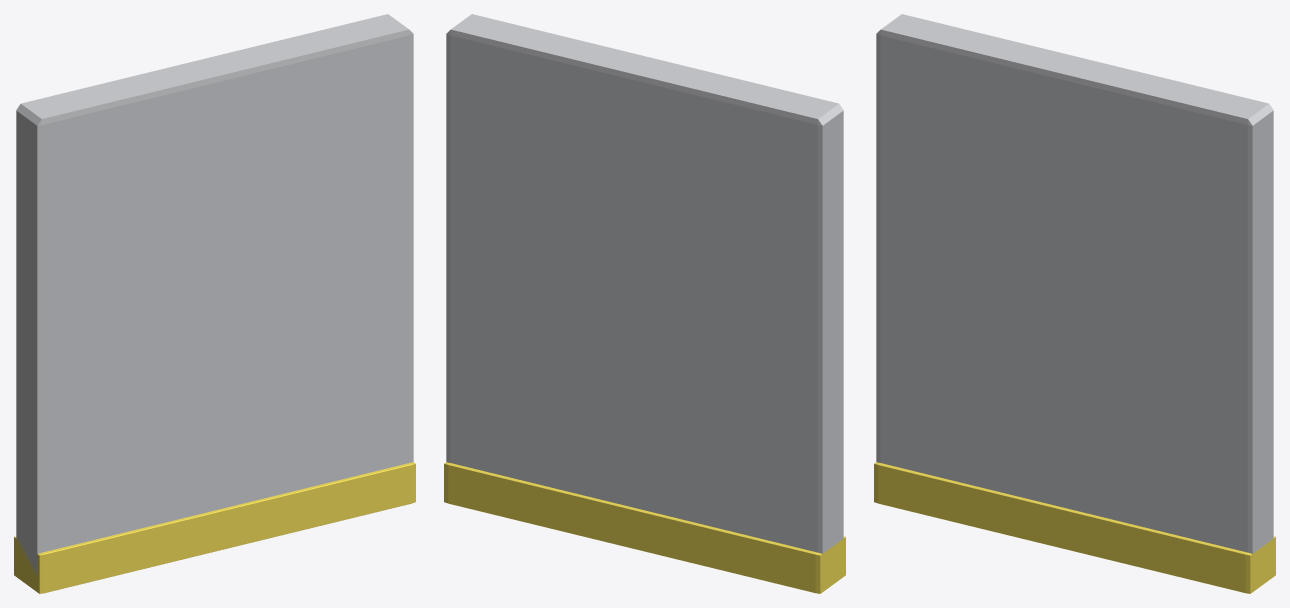
Rendered from WallStraight.fbx.
The picture shows the model from 3 angles, left to right: view 1: azimuth 30°, elevation 25°; view 2: azimuth 150°, elevation 25°; view 3: azimuth 330°, elevation 25°; orthographic projection.
Visible parts, largest first — view 1: Wall, Skirt; view 2: Wall, Skirt; view 3: Wall, Skirt.
Boxes of the visible parts, box(x1,y1,x2,y2) form: Wall: box(16, 14, 413, 576); Skirt: box(14, 462, 415, 593); Wall: box(446, 14, 843, 553); Skirt: box(444, 462, 845, 593); Wall: box(876, 14, 1273, 553); Skirt: box(874, 462, 1275, 593).
Bounding box in the file's own units: 200 × 240 × 24.
